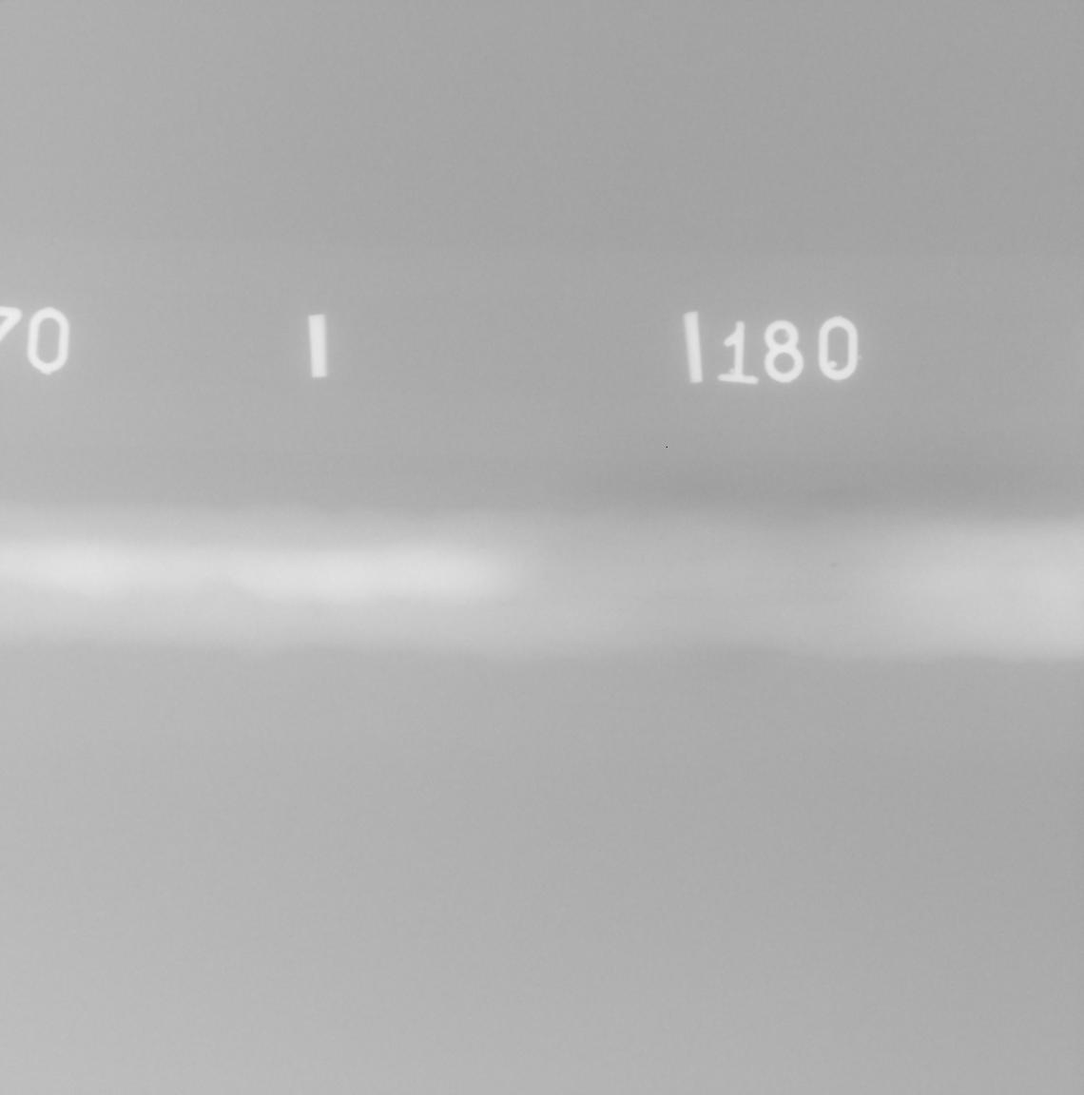Pore/Porosity: (830, 562, 837, 568)
